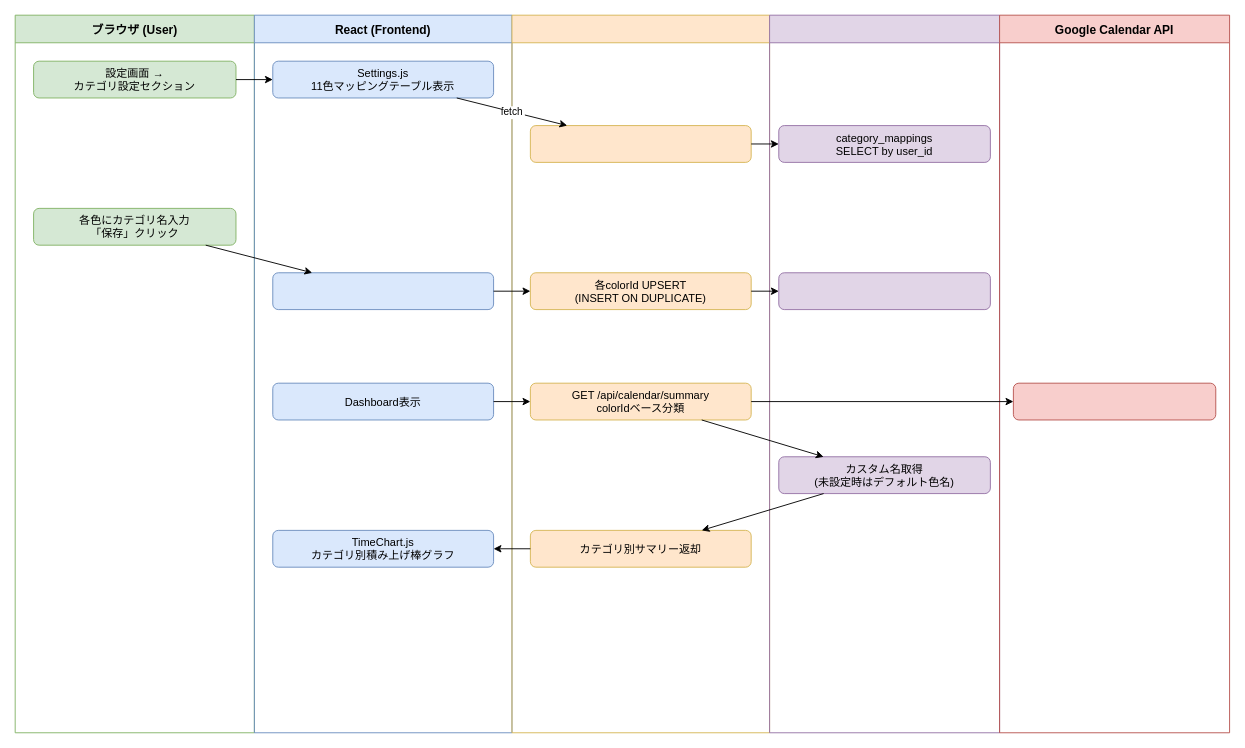
Image size: 1245x748. Some labels were removed from this diagram. The shapes that lost their labels are listed below. From the top down, each one's box as (x1, y1, x2, y2) in pixels, then its label:
(529, 125, 751, 162): GET /api/category-mappings
(272, 272, 494, 310): PUT /api/category-mappings 一括更新
(778, 272, 990, 310): category_mappings UPSERT
(511, 14, 770, 733): Express (Backend)
(769, 14, 1000, 733): MySQL (DB)
(1012, 382, 1216, 420): イベント取得 (colorId含む)
